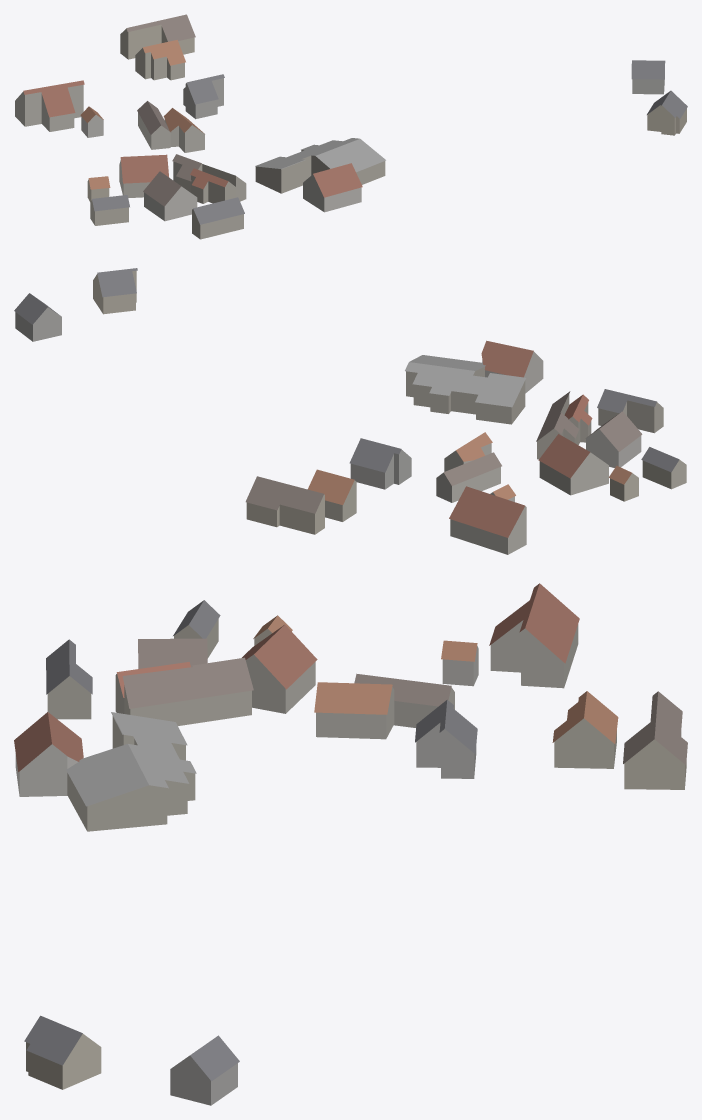
3 views of the same model, one above another, from view 1: azimuth 30°, elevation 25°; view 2: azimuth 150°, elevation 25°; view 3: azimuth 270°, elevation 25° (orthographic). The views are drawn at different scales.
Parts seen in each view (by area): view 1: buildings; view 2: buildings; view 3: buildings.
Boxes of the visible parts, box(x1,y1,x2,y2) form: buildings: box(15, 14, 687, 239); buildings: box(14, 268, 686, 554); buildings: box(14, 583, 687, 1105).
Bounding box in the file's own units: 232 × 21.17 × 142.
